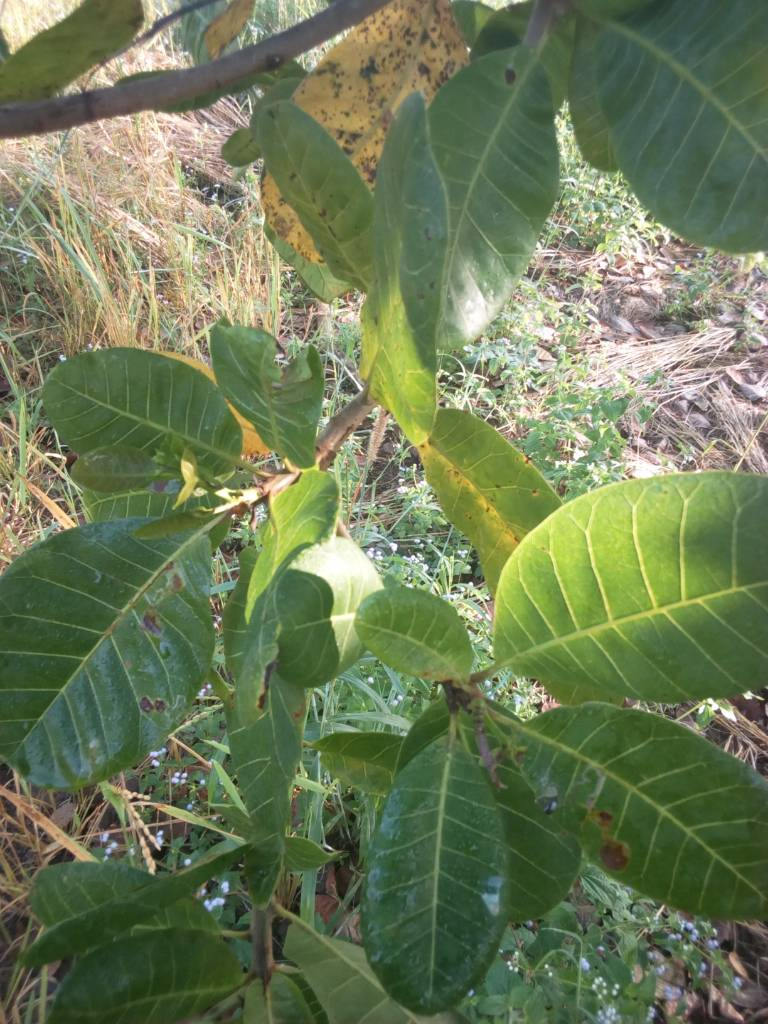Anthracnose: (1, 514, 224, 788), (521, 688, 768, 921), (252, 102, 372, 277)
